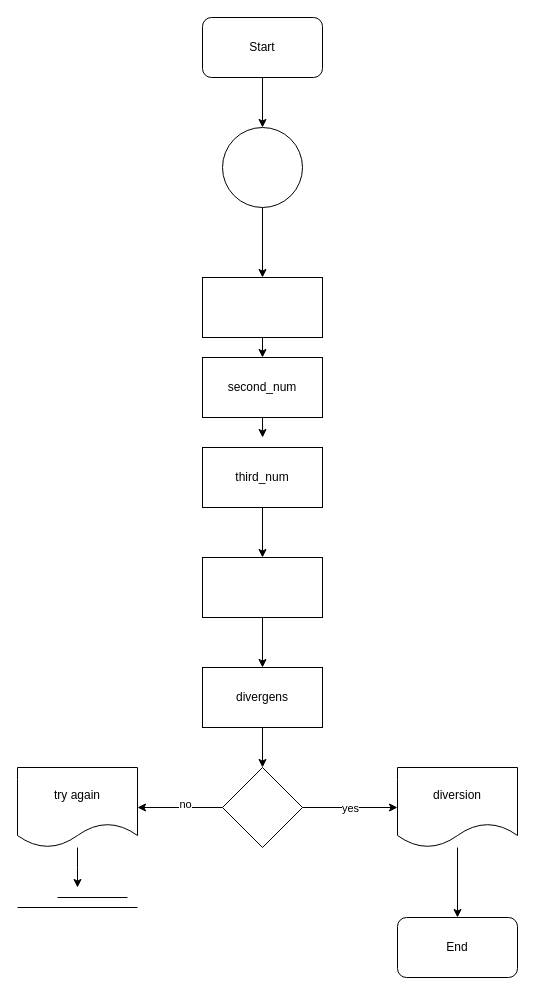
The diagram is 535 pixels wide and 995 high, and some of its shapes have lost their labels. Each missing label, with the box of its shape:
first_num: (202, 276, 322, 338)
range check: (202, 556, 322, 618)
second == dive and range == True: (222, 766, 302, 848)
while True: (222, 126, 302, 208)
